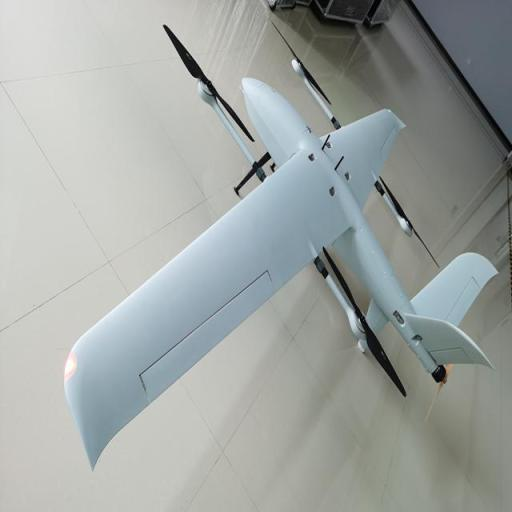uav: (60, 18, 502, 479)
